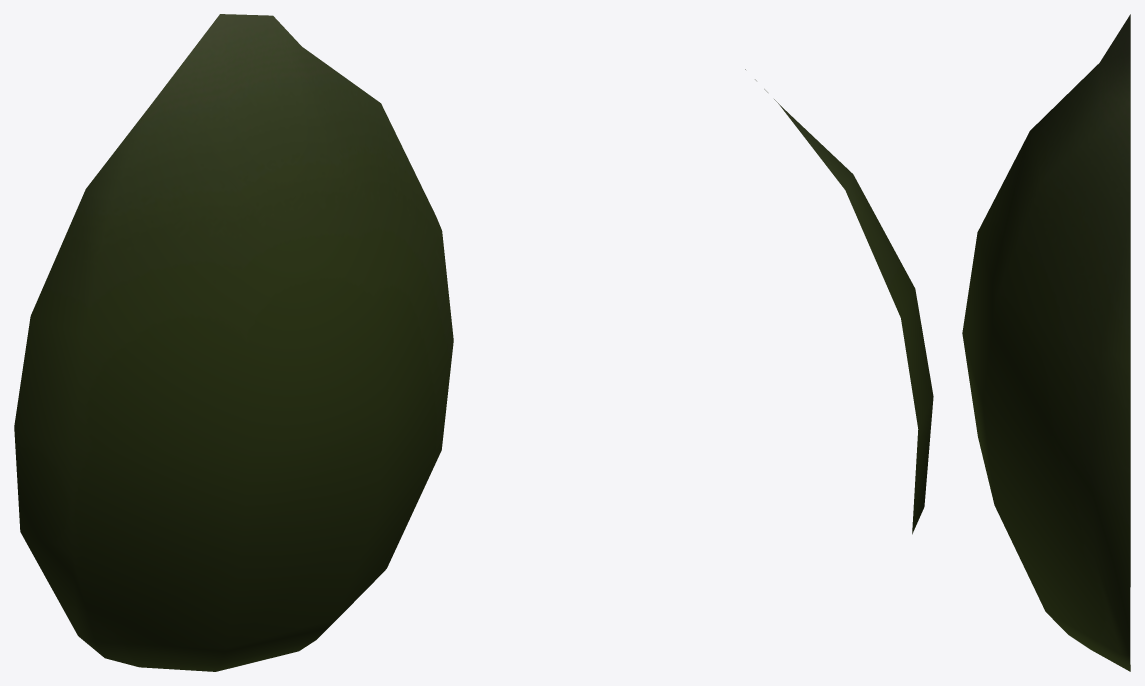
The model's file is Stigma_02.gltf.
The picture shows the model from 3 angles, left to right: view 1: azimuth 30°, elevation 25°; view 2: azimuth 150°, elevation 25°; view 3: azimuth 270°, elevation 25°; orthographic projection. The views are drawn at different scales.
Parts seen in each view (by area): view 1: Stigma_02; view 2: Stigma_02; view 3: Stigma_02.
Boxes of the visible parts, bbox=[...] form: Stigma_02: bbox=[14, 14, 453, 671]; Stigma_02: bbox=[745, 69, 933, 534]; Stigma_02: bbox=[962, 14, 1130, 671].
Bounding box in the file's own units: 2.27 × 3.25 × 0.801.
1 material, 1 textured.
